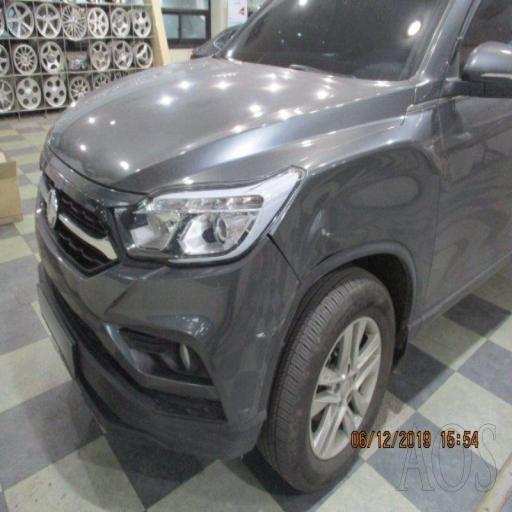scratch: (160, 265, 283, 431)
